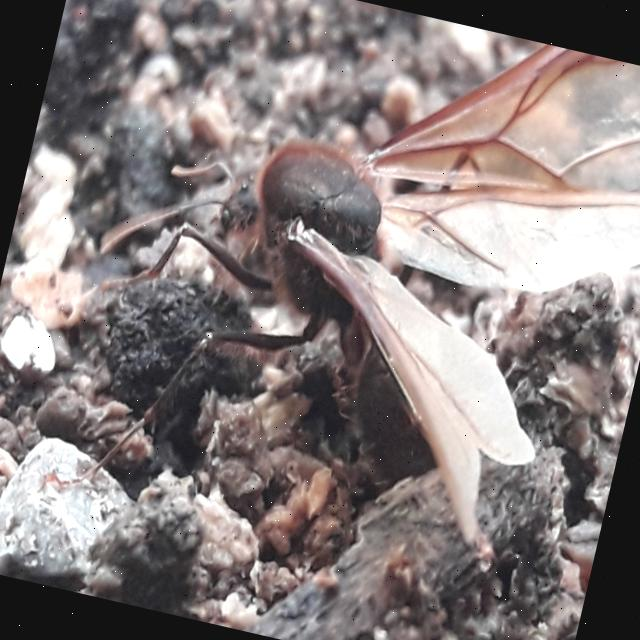Alive-Male-Alate: (35, 0, 640, 620)
